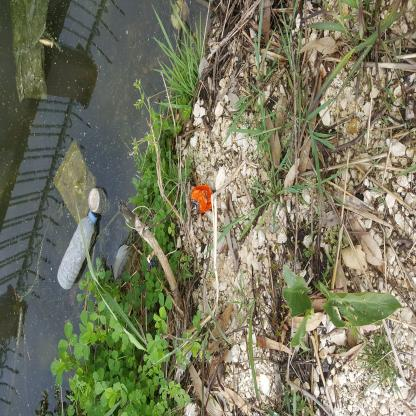trash: (66, 95, 125, 176), (111, 335, 133, 385)
